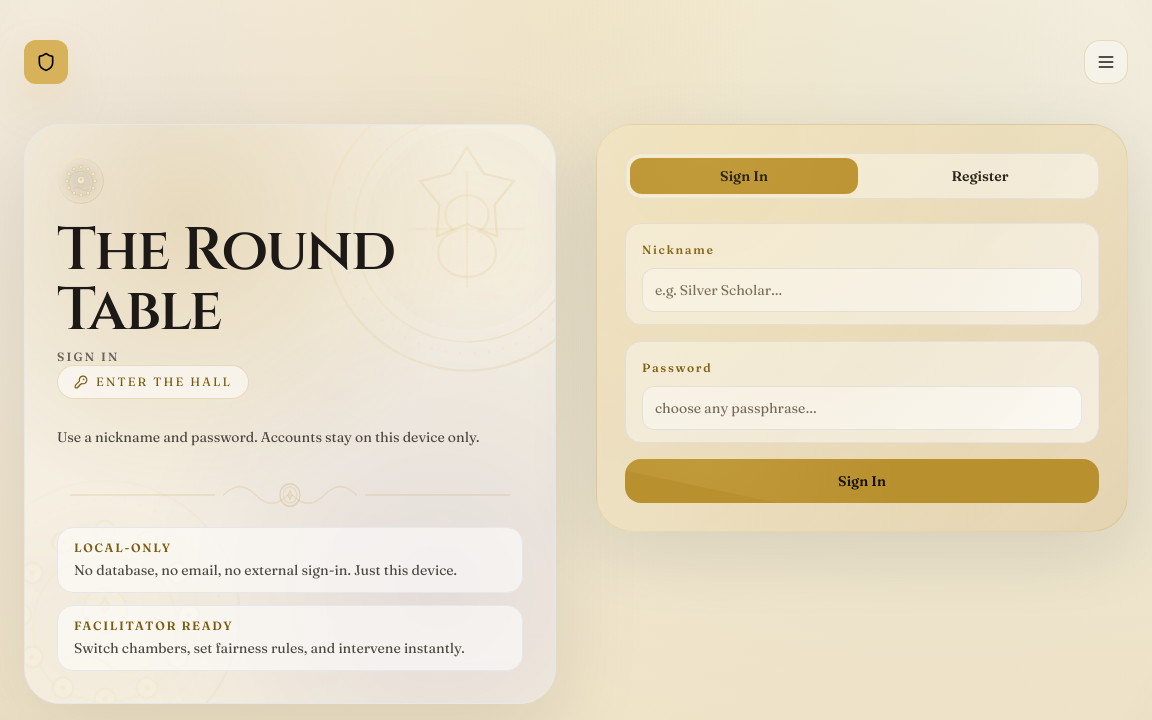
Scenario: unauthenticated drawer only shows sign in
The width and height of the screenshot is (1152, 720).
Click the button named "menu".
click(1106, 62)  # box [1084,40,1128,84]
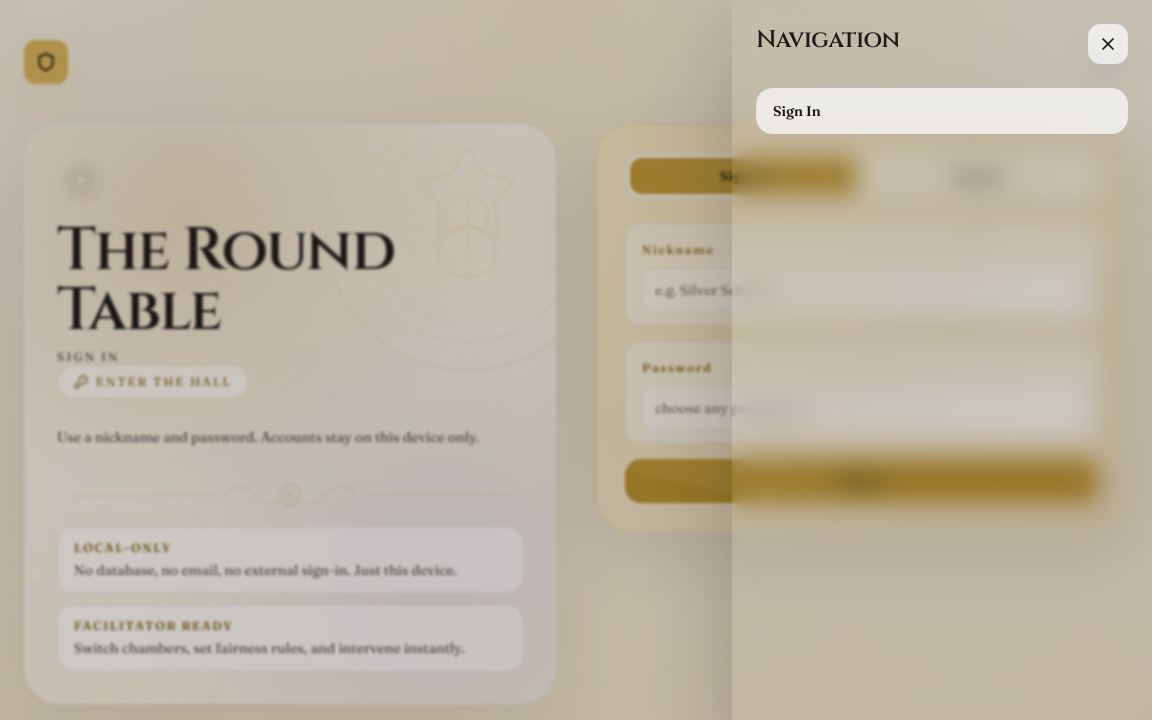
Expected: the heading "Navigation" is shown, [756,24,900,56]
Expected: the link "Sign In" is shown, [756,88,1128,134]
